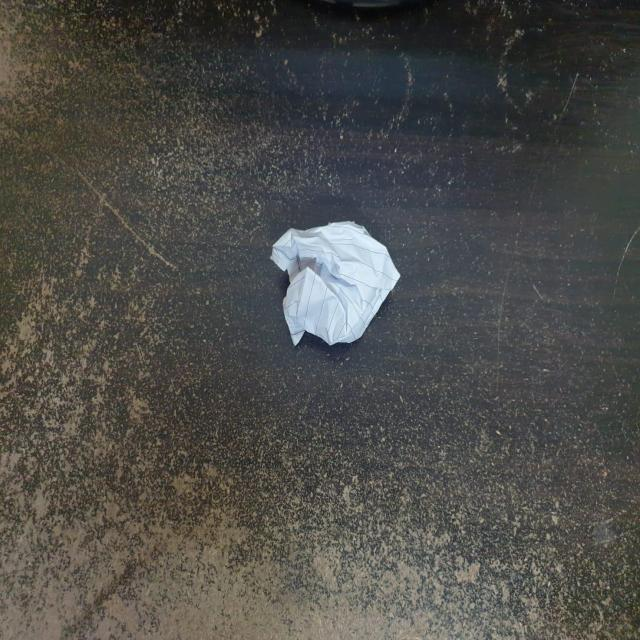kertas: (270, 216, 400, 354)
